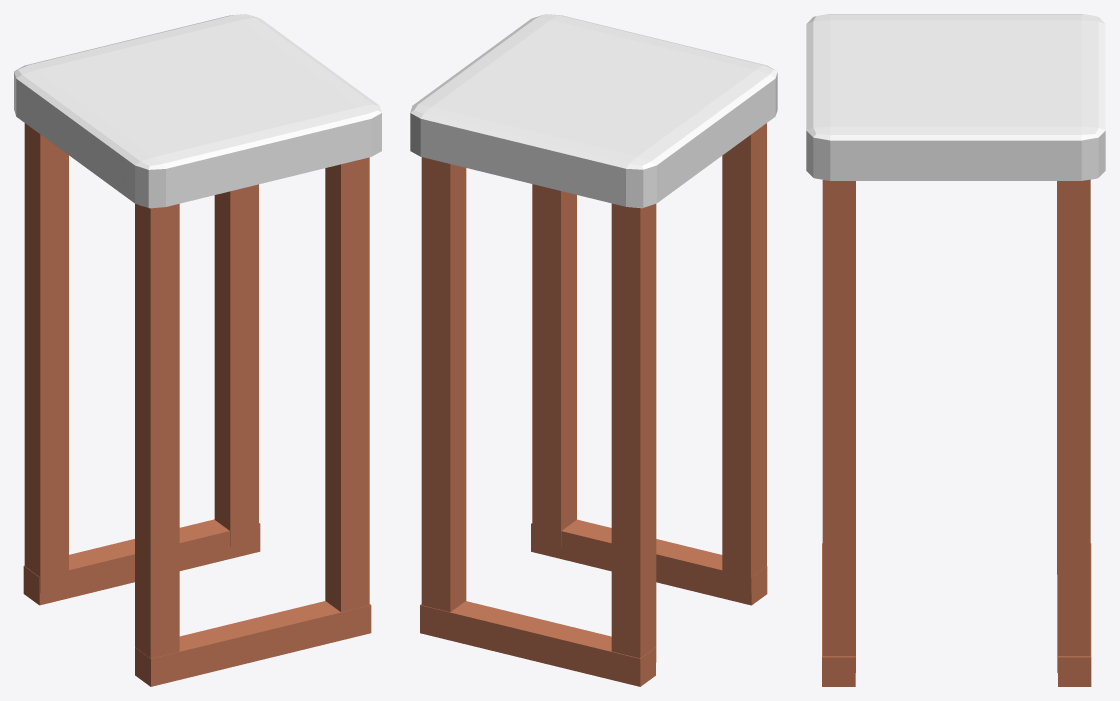
Rendered from BarChair.fbx.
The picture shows the model from 3 angles, left to right: view 1: azimuth 30°, elevation 25°; view 2: azimuth 150°, elevation 25°; view 3: azimuth 270°, elevation 25°; orthographic projection. The views are drawn at different scales.
Visible parts, largest first — view 1: BarChair; view 2: BarChair; view 3: BarChair.
Part boxes in pixels (bbox=[...]): BarChair: bbox=[14, 14, 381, 686]; BarChair: bbox=[410, 14, 777, 686]; BarChair: bbox=[806, 14, 1105, 686].
Size of the model in its own units: 222 by 455 by 222.
